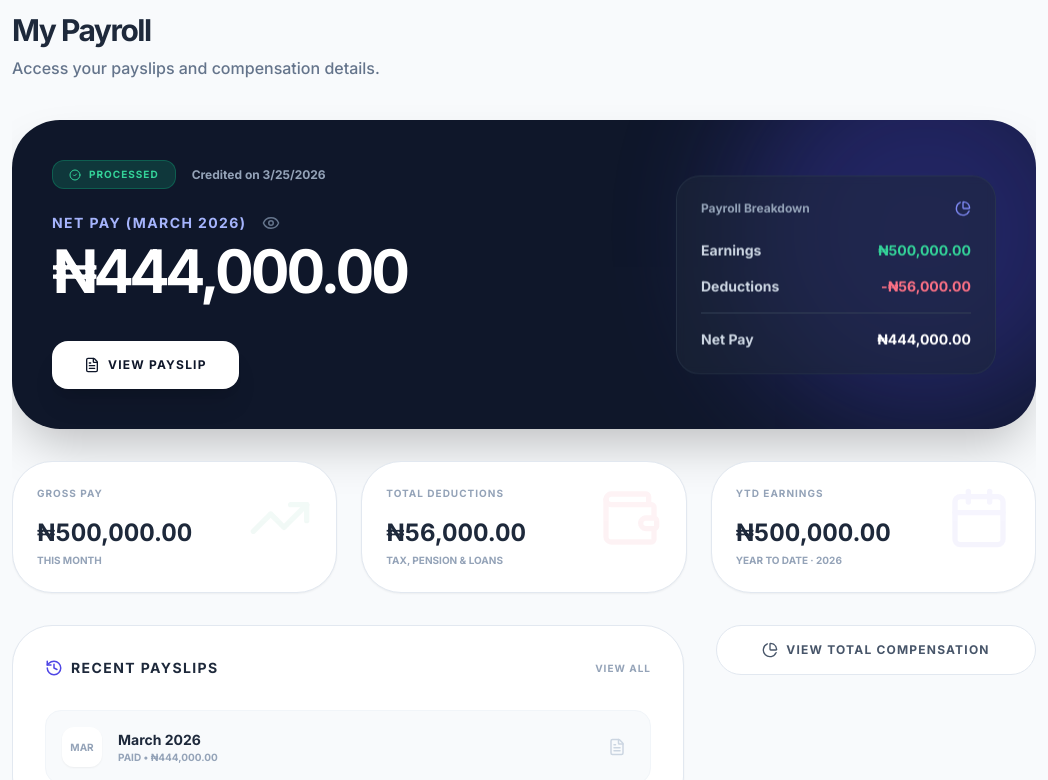
it: MyPayroll › shows employee bank details on the payslip, or "Not on file" when missing
Click the button "View Payslip": [145, 365] box [52,341,239,389]
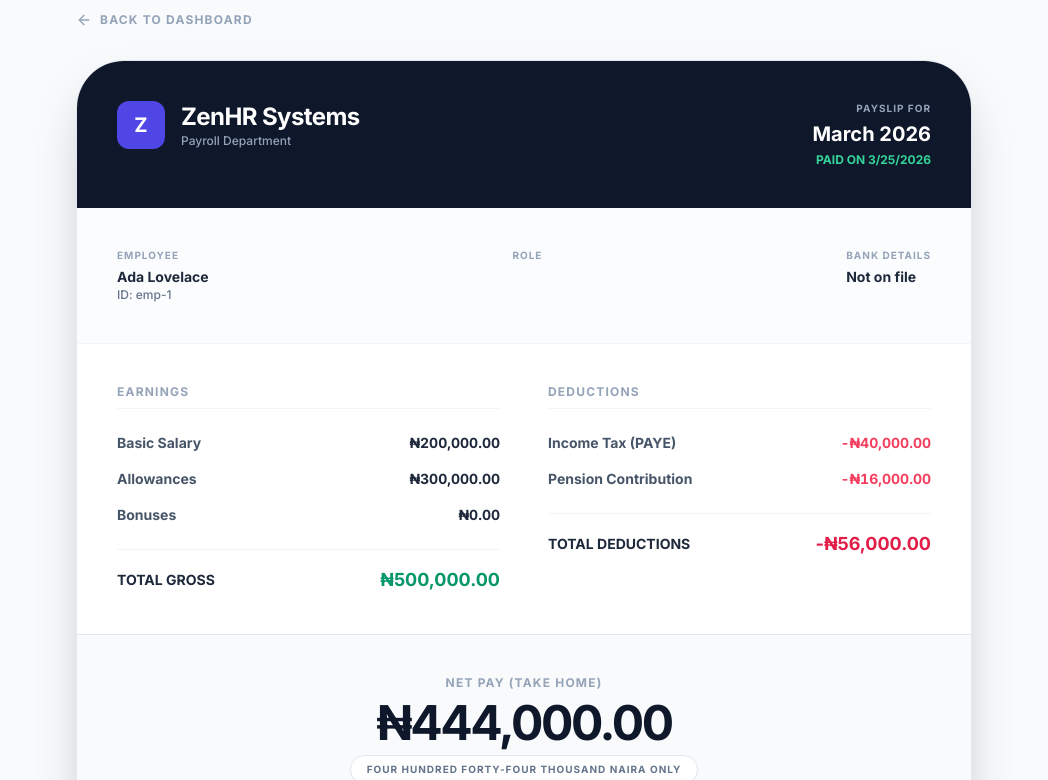
Expected: the text "Not on file" is shown, [846,268,916,285]
